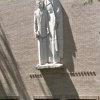Statue: (26, 1, 76, 80)
